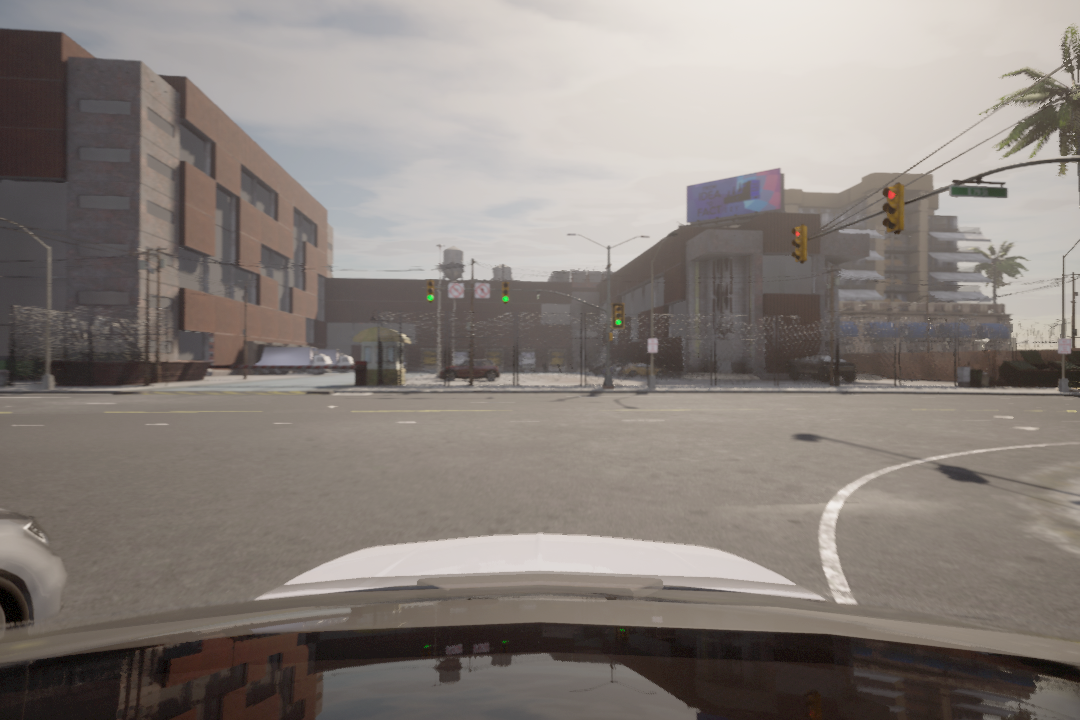TrafficLight: (877, 181, 910, 240), (791, 220, 809, 265), (425, 278, 435, 306), (501, 281, 513, 304), (613, 302, 624, 327)
TrafficSign: (473, 281, 492, 300), (448, 283, 464, 300)
